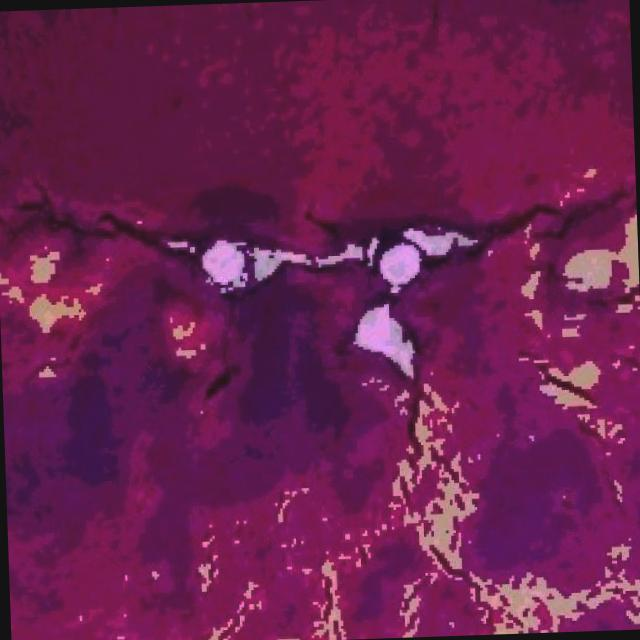crack: (50, 194, 194, 276), (404, 395, 462, 470)
